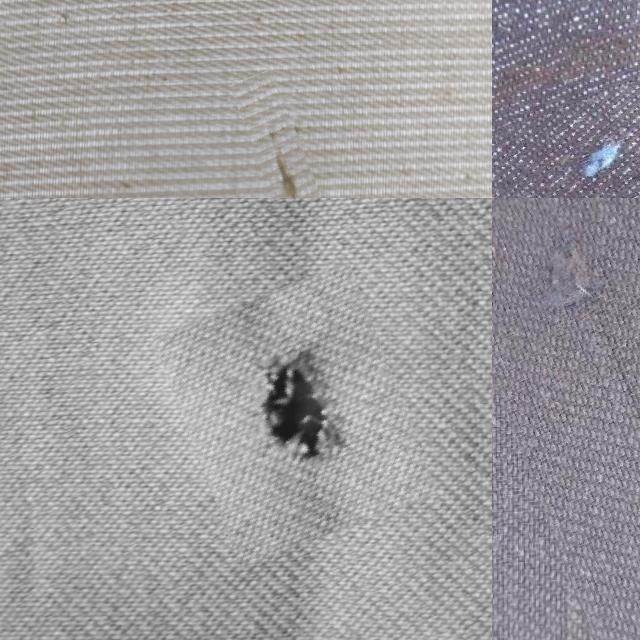other: (170, 276, 418, 554)
stains: (492, 198, 640, 640), (492, 75, 640, 198), (250, 68, 342, 198)
